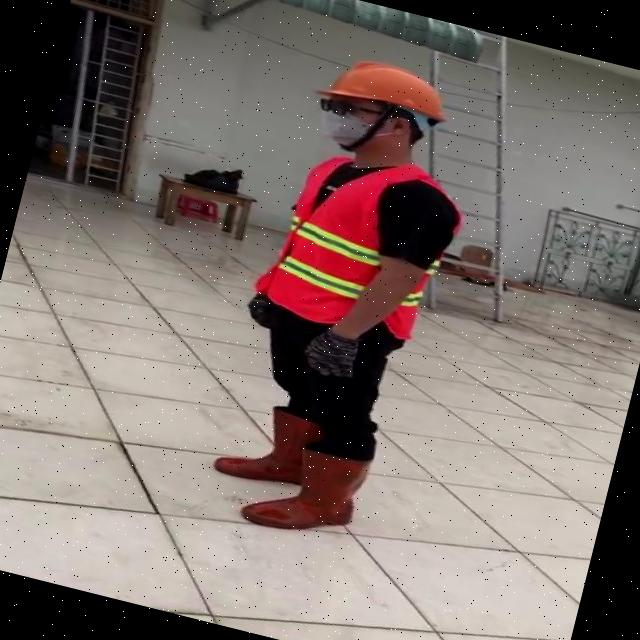boots: (202, 386, 350, 504), (240, 430, 369, 550)
